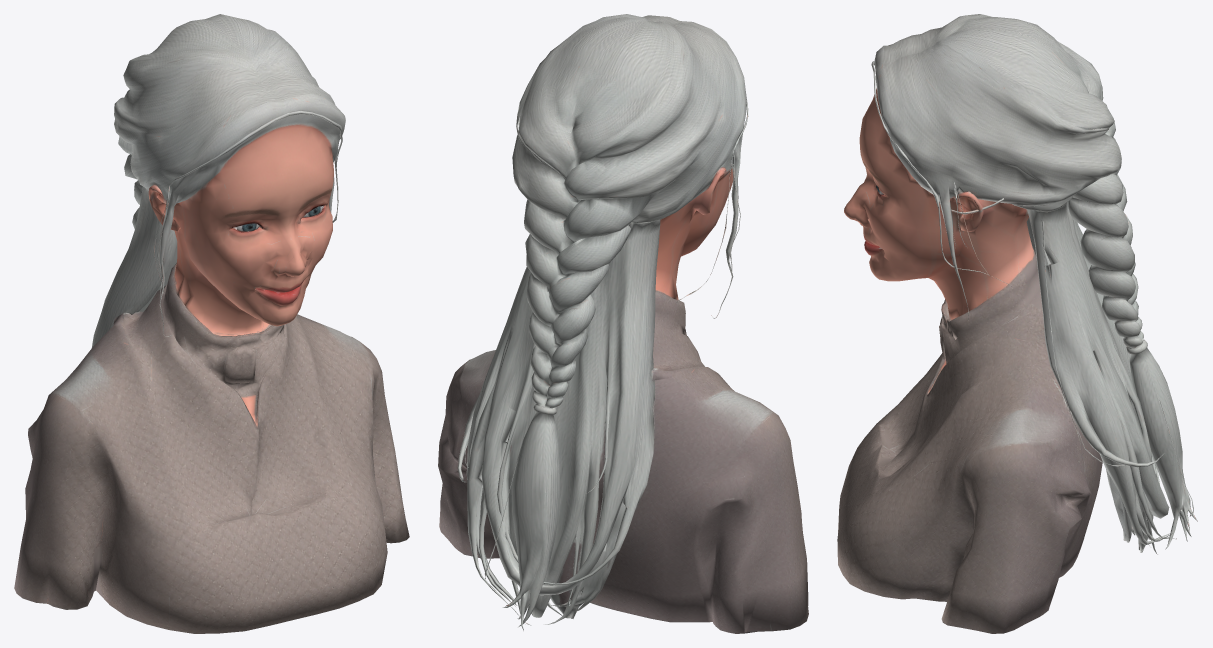
Rendered from hair-3.glb.
3 renders of one model, left to right at view 1: azimuth 30°, elevation 25°; view 2: azimuth 150°, elevation 25°; view 3: azimuth 270°, elevation 25°, orthographic. The views are drawn at different scales.
Bounding box in the file's own units: 0.6904 × 0.9521 × 0.5957.
Materials: 1 (1 with a texture image).
